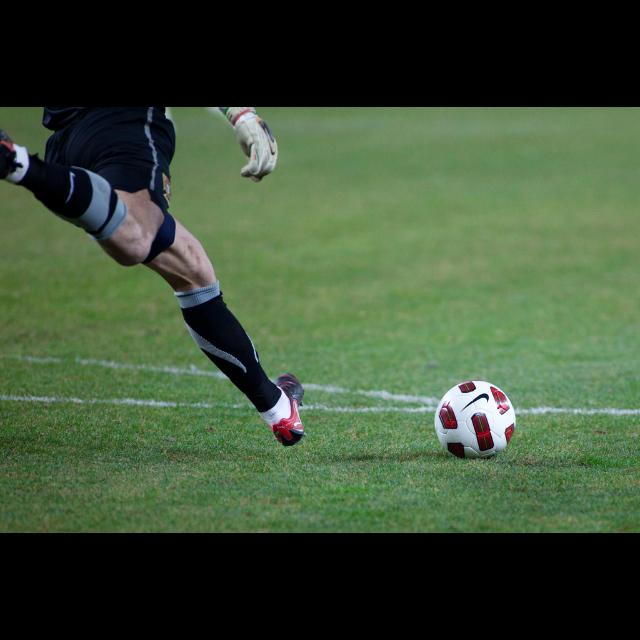Football: (432, 378, 514, 459)
